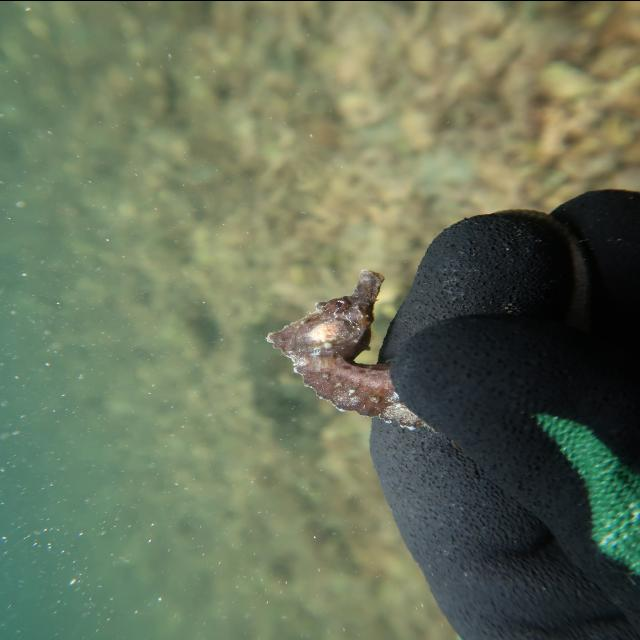Hippo: (258, 262, 394, 364)
